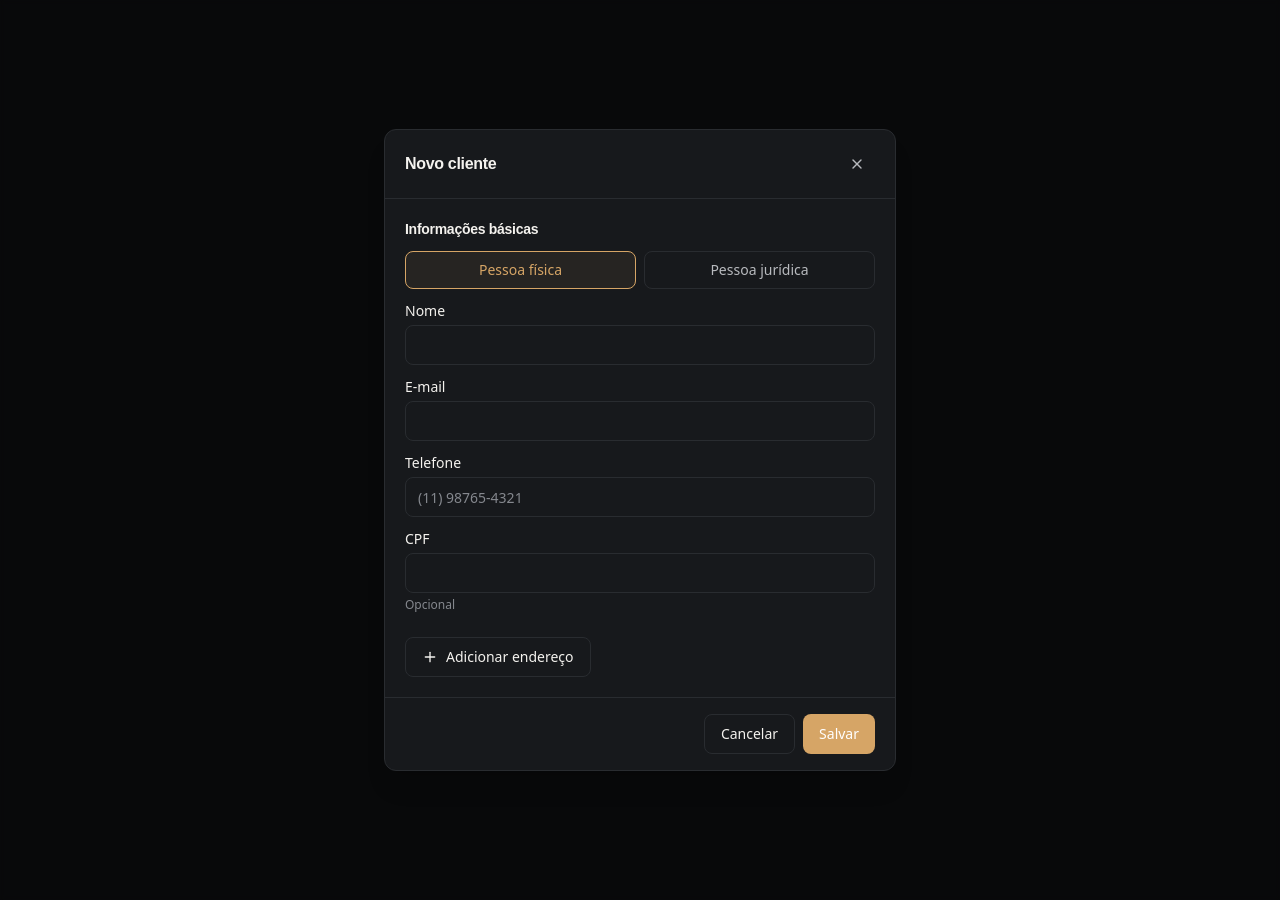
Scenario: ClientFormModal › shows validation errors for the 3 required fields on submit
Click the button "Salvar" at x=839, y=734, box [803,714,875,754]
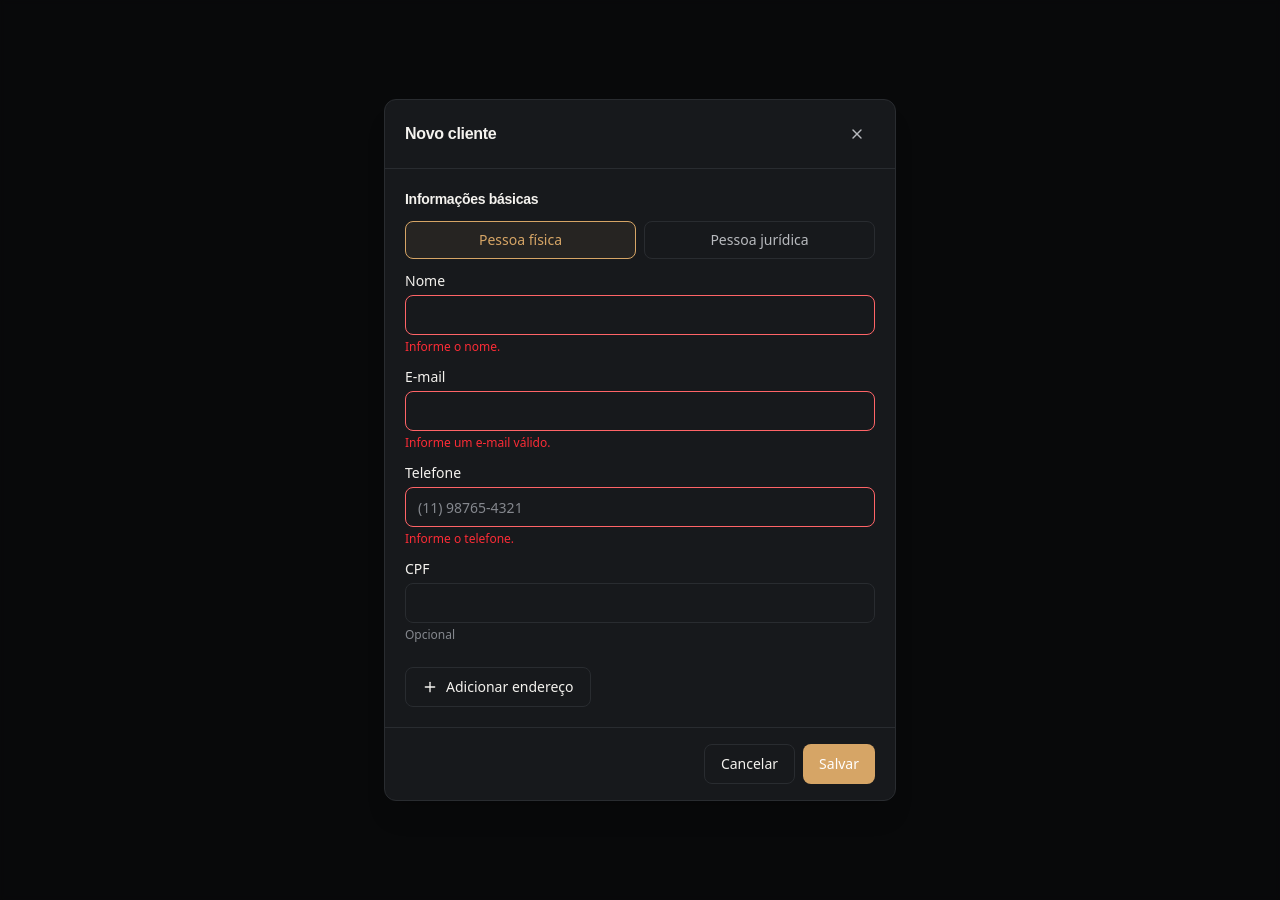
expect the text "Informe o nome." is shown: met, box [405,338,500,355]
expect the text "Informe um e-mail válido." is shown: met, box [405,434,550,451]
expect the text "Informe o telefone." is shown: met, box [405,530,514,547]
